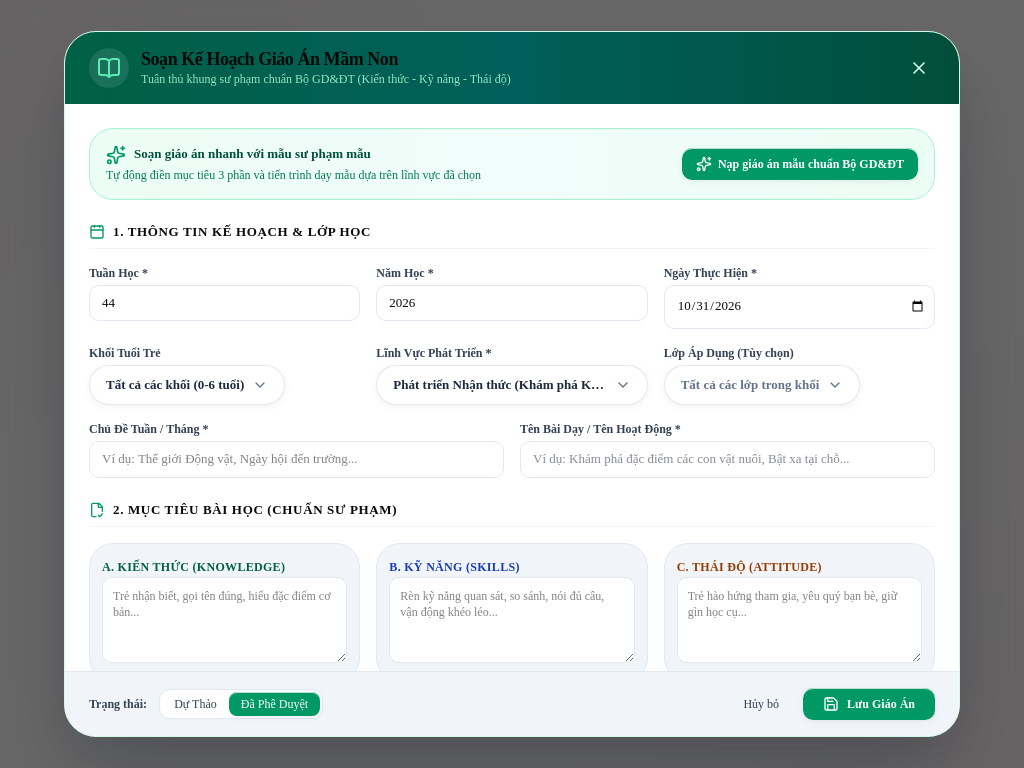
Test: LessonPlanEditorModal Component › shows error validation when required title is empty
Click the button "Lưu Giáo Án".
click(869, 704)  # box left=803, top=688, right=935, bottom=720
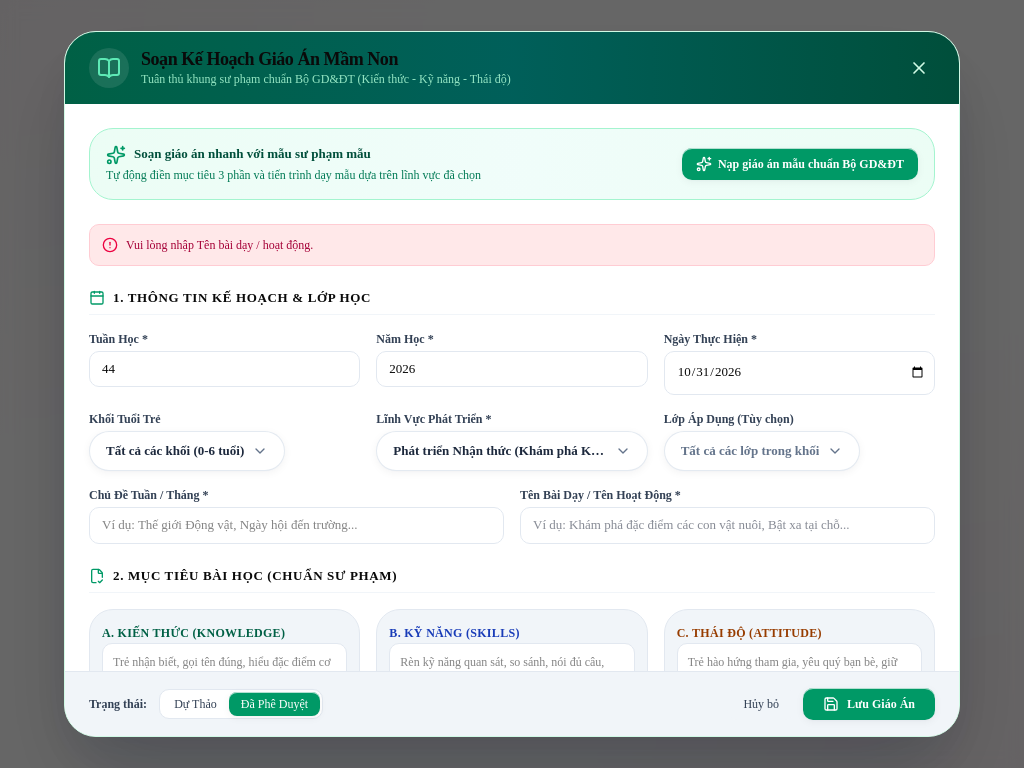
Result: the text "Vui lòng nhập Tên bài dạy / hoạt động." is shown at left=126, top=237, right=313, bottom=253
